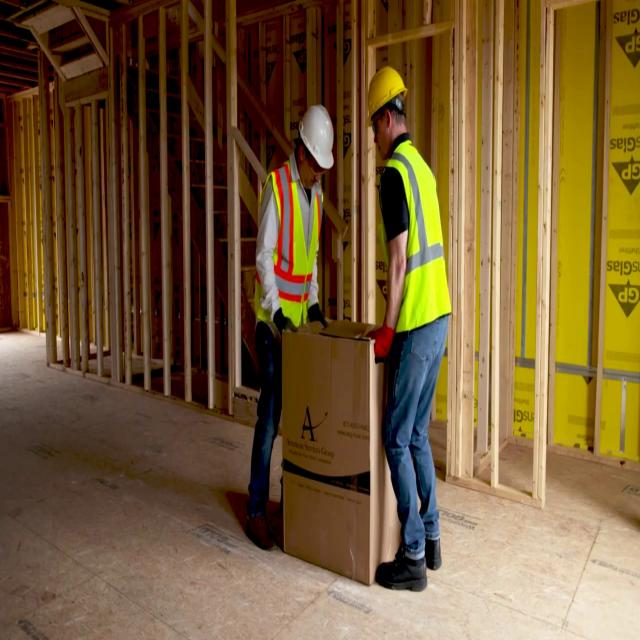Hard_hat: (291, 104, 337, 174), (365, 75, 408, 113)
Safety_boots: (232, 496, 282, 558), (378, 559, 428, 588), (420, 532, 450, 573)
Vest: (368, 161, 464, 327), (264, 173, 320, 341)
